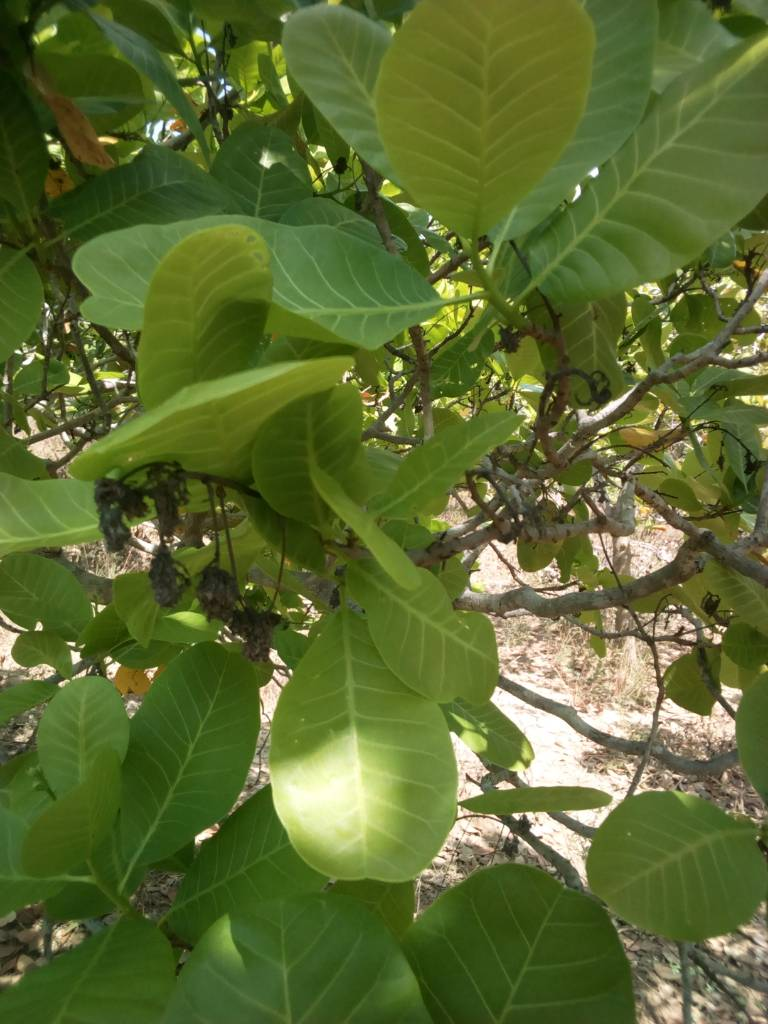Dessèchement des bourgeons: (97, 464, 297, 655), (543, 352, 621, 427)
